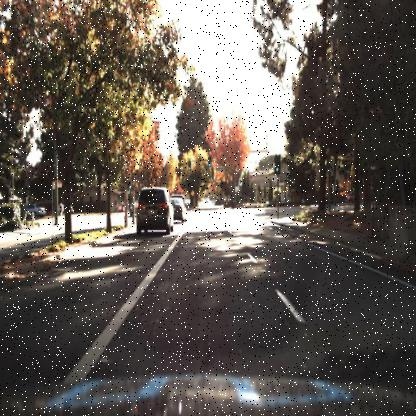car: (134, 185, 172, 240), (170, 197, 186, 226), (24, 203, 47, 219), (124, 199, 138, 223), (173, 198, 184, 228), (348, 188, 365, 204), (171, 192, 185, 200)
trafficLight: (272, 158, 280, 178), (237, 173, 244, 189)
trafficLight-Green: (206, 153, 213, 172), (238, 177, 246, 193), (275, 156, 280, 177), (205, 158, 213, 170), (128, 182, 133, 194), (188, 159, 192, 173)
trafficLight-GreenLeft: (187, 162, 192, 174)
